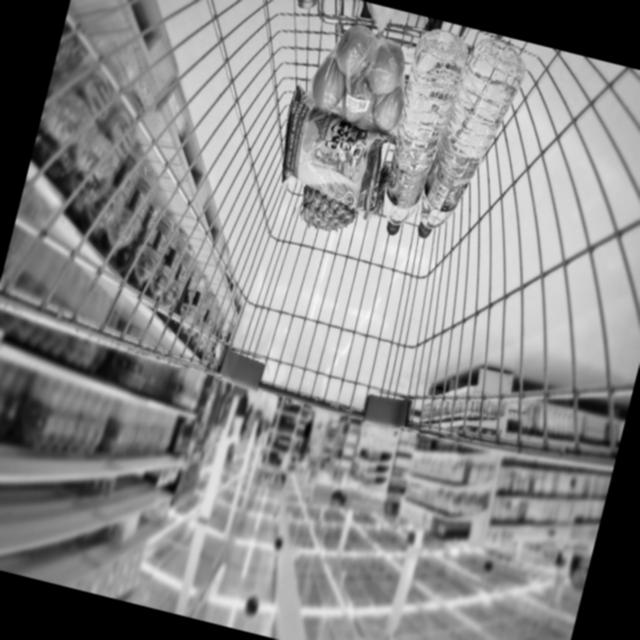apple: (304, 19, 418, 134)
pineapple: (293, 148, 392, 250)
